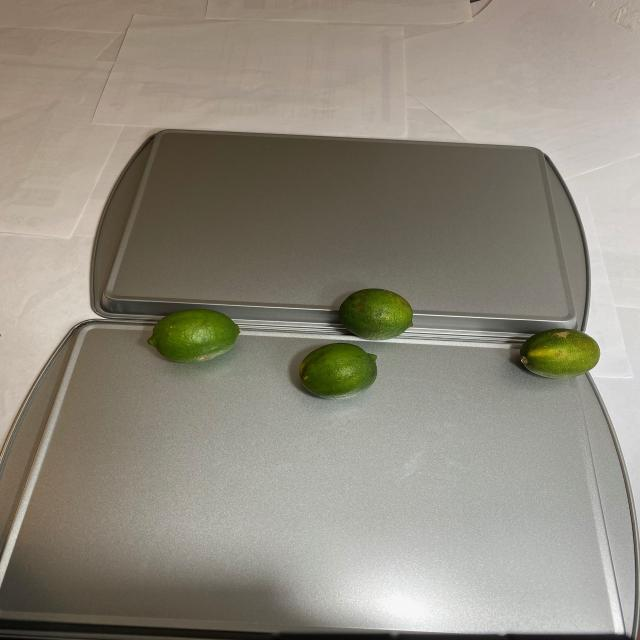lemon: (149, 288, 607, 397)
